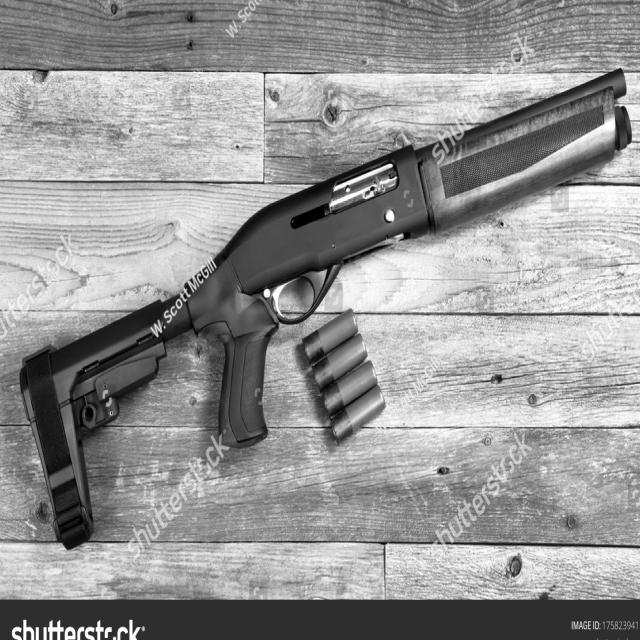Weapon: (20, 71, 631, 548)
